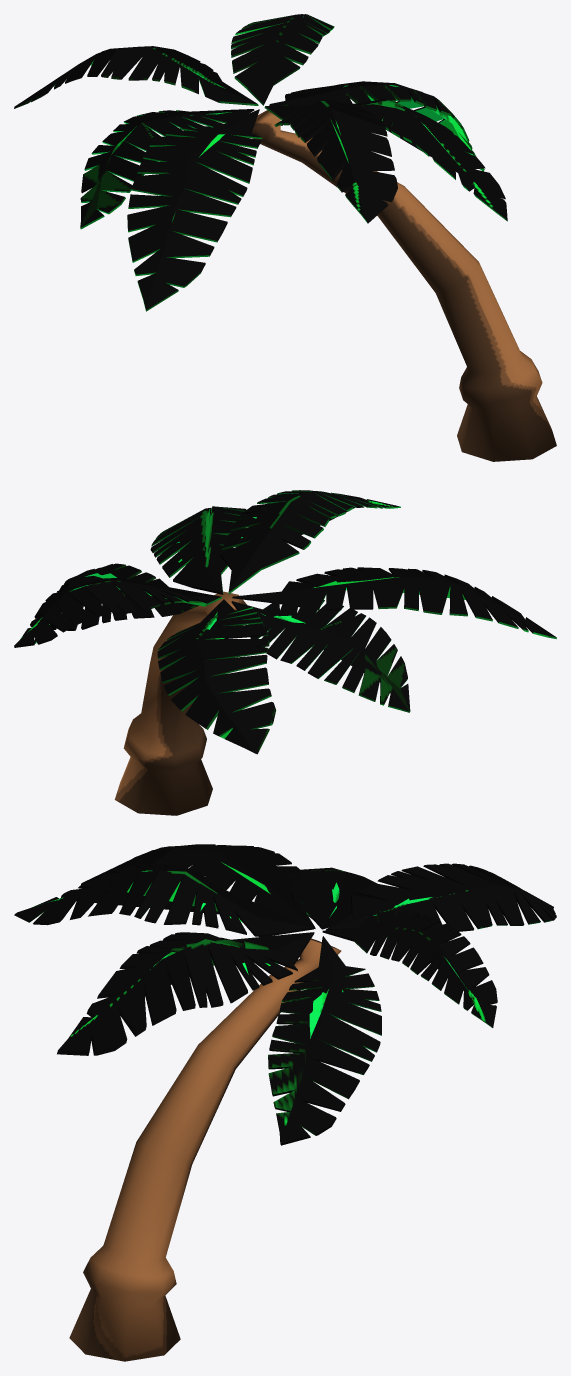
The model's file is palm_tree_3.fbx.
3 renders of one model, top to bottom at view 1: azimuth 30°, elevation 25°; view 2: azimuth 150°, elevation 25°; view 3: azimuth 270°, elevation 25°, orthographic. The views are drawn at different scales.
Visible parts, largest first — view 1: final_3; view 2: final_3; view 3: final_3.
Boxes of the visible parts, x1,y1,x2,y2 form: final_3: (14,14,556,461); final_3: (14,490,556,815); final_3: (14,844,556,1361).
Bounding box in the file's own units: 1.15 × 0.904 × 1.14.
1 material, 1 textured.
